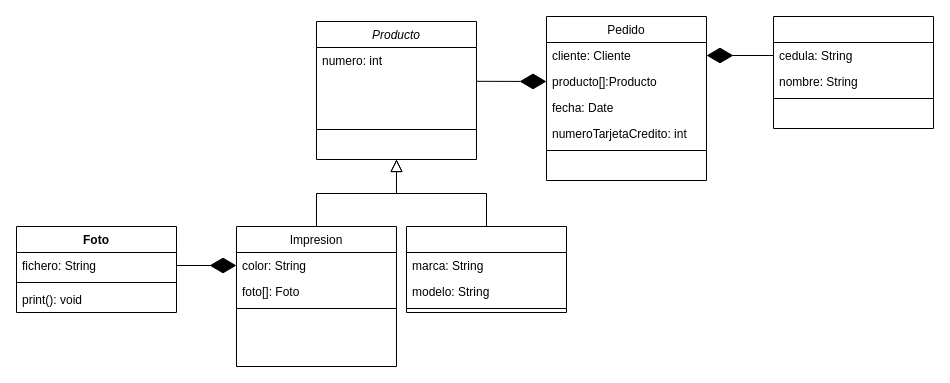
Image size: 950x383. Some labels were removed from this diagram. Each missing label, with the box of its shape:
Camara: (406, 226, 566, 312)
Cliente: (772, 16, 934, 128)
